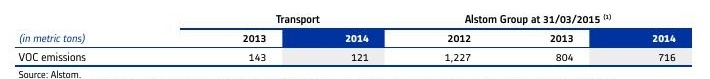table: (0, 0, 710, 79)
